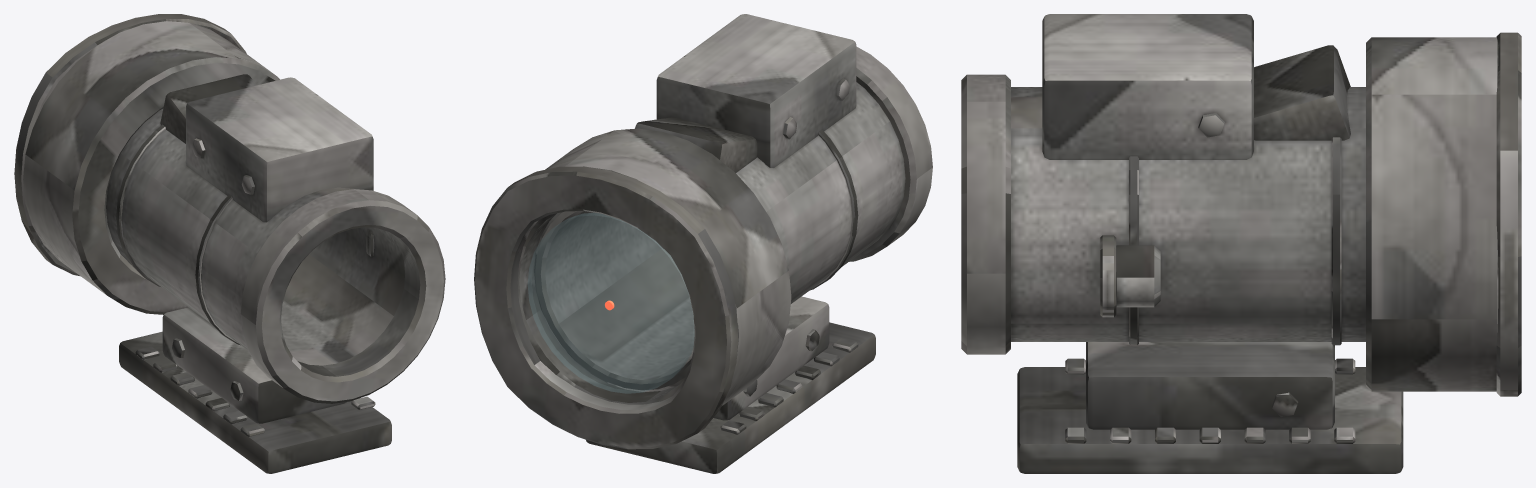
File: prism_3x.glb
3 views of the same model, side by side, from view 1: azimuth 30°, elevation 25°; view 2: azimuth 150°, elevation 25°; view 3: azimuth 270°, elevation 25° (orthographic). The views are drawn at different scales.
Parts seen in each view (by area): view 1: body, objective, eye_ring, prism_hump, rail, riser, objective_lip, prism_slope, body_seam.001, body_seam; view 2: body, objective_lip, objective, prism_3x_glass, prism_hump, rail, eye_ring, riser, prism_slope, body_seam; view 3: body, objective, prism_hump, rail, riser, eye_ring, objective_lip, prism_slope, turret_side, body_seam.001, turret_side_cap, body_seam.
Part boxes in pixels (x1,y1,x2,y2): body: (106, 109, 404, 365); objective: (23, 21, 279, 314); eye_ring: (240, 189, 445, 403); prism_hump: (186, 77, 373, 222); rail: (119, 331, 391, 473); riser: (162, 307, 346, 423); objective_lip: (14, 14, 246, 276); prism_slope: (160, 74, 256, 143); body_seam.001: (116, 124, 165, 286); body_seam: (195, 194, 240, 345); body: (534, 82, 905, 392); objective_lip: (474, 166, 738, 449); objective: (517, 128, 791, 405); prism_3x_glass: (528, 213, 694, 393); prism_hump: (656, 14, 856, 167); rail: (586, 322, 875, 473); eye_ring: (849, 46, 932, 261); riser: (713, 296, 829, 420); prism_slope: (635, 117, 757, 172); body_seam: (810, 130, 858, 290); body: (1011, 87, 1365, 341); objective: (1366, 37, 1498, 391); prism_hump: (1042, 14, 1253, 159); rail: (1017, 367, 1403, 473); riser: (1086, 342, 1334, 429); eye_ring: (961, 74, 1010, 354); objective_lip: (1496, 32, 1521, 396); prism_slope: (1254, 45, 1350, 140); turret_side: (1116, 245, 1160, 307); body_seam.001: (1331, 137, 1341, 345); turret_side_cap: (1100, 235, 1116, 317); body_seam: (1129, 156, 1138, 345).
Bounding box in the file's own units: 0.0584 × 0.0695 × 0.09.
Materials: 3 (1 with a texture image).
